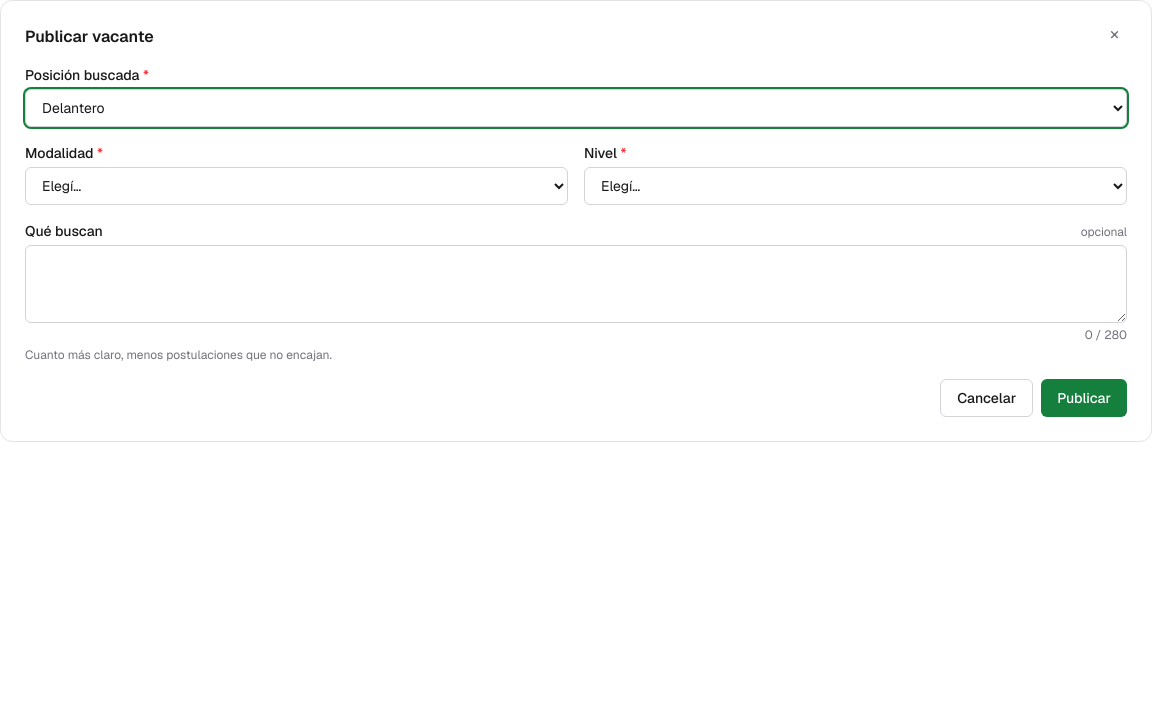
Scenario: si la Server Action no responde muestra un error traducido
Select "Delantero" in the dropdown labelled "Posición buscada *". click: (576, 108)
box: [25,89,1127,127]
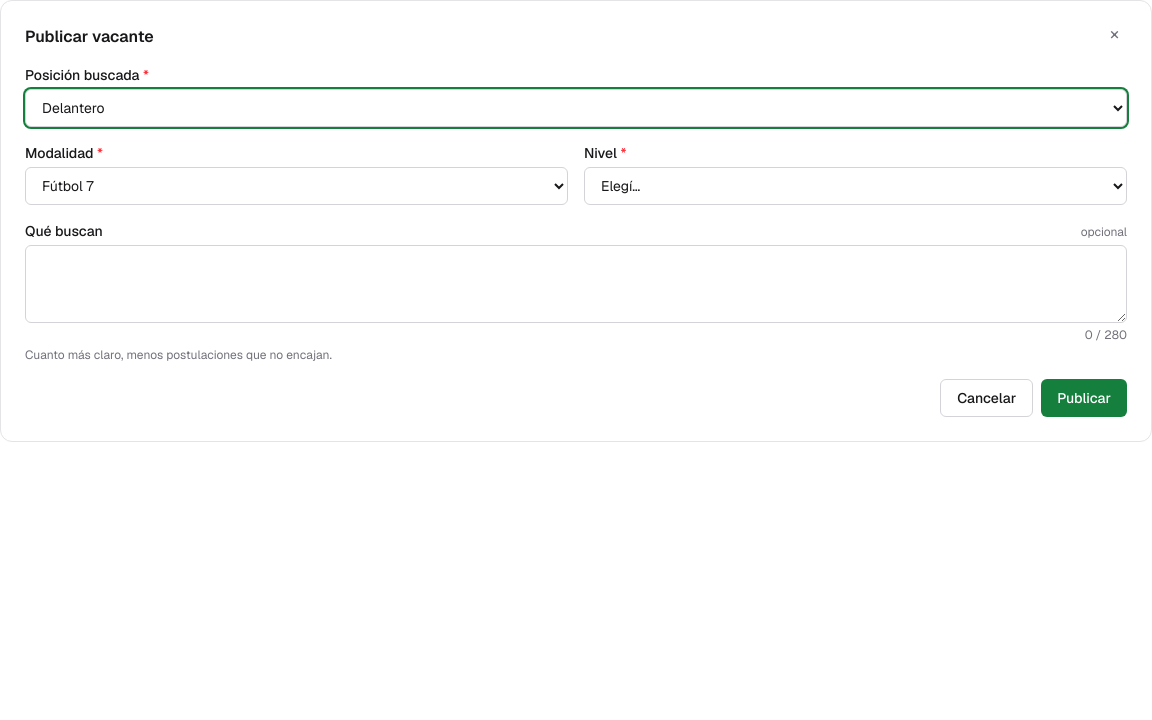
Select "Fútbol 7" in the dropdown labelled "Modalidad *". click: (296, 186)
box: [25,167,568,205]
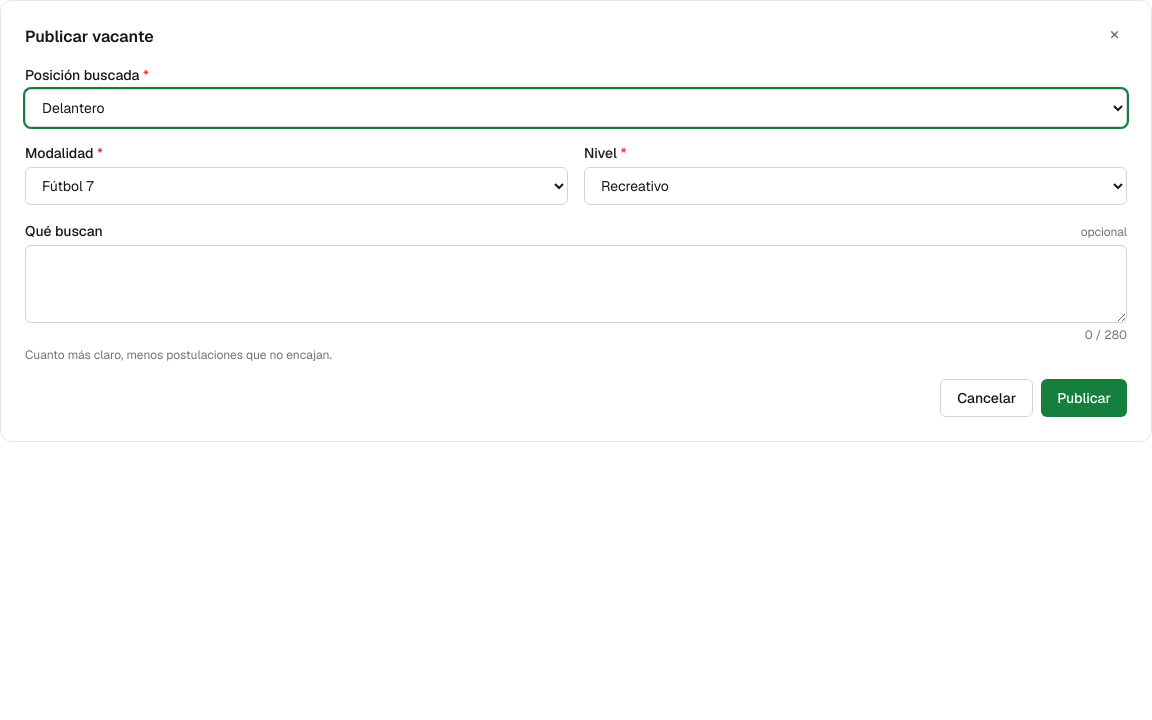
Select "Recreativo" in the dropdown labelled "Nivel *". click: (856, 186)
box: [584,167,1127,205]
Click the button "Publicar". click: (1084, 398)
box: [1041,379,1127,417]
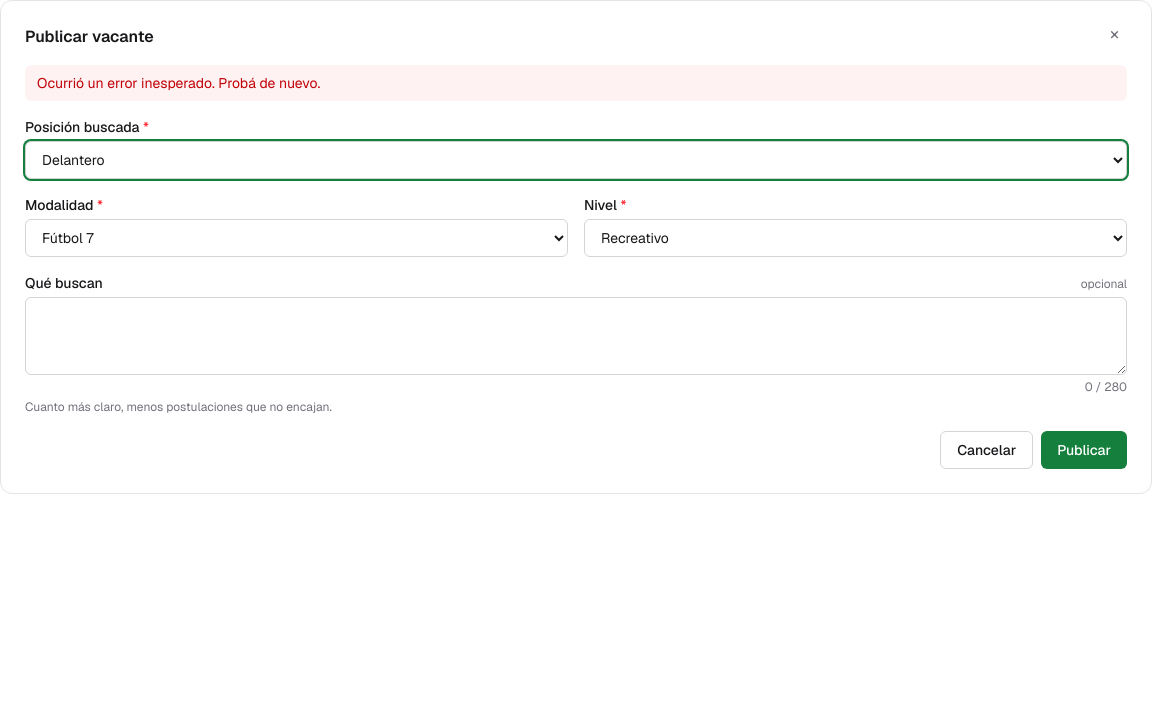
Expected: the text "Ocurrió un error inesperado. Probá de nuevo." is shown, [25,65,1127,101]
